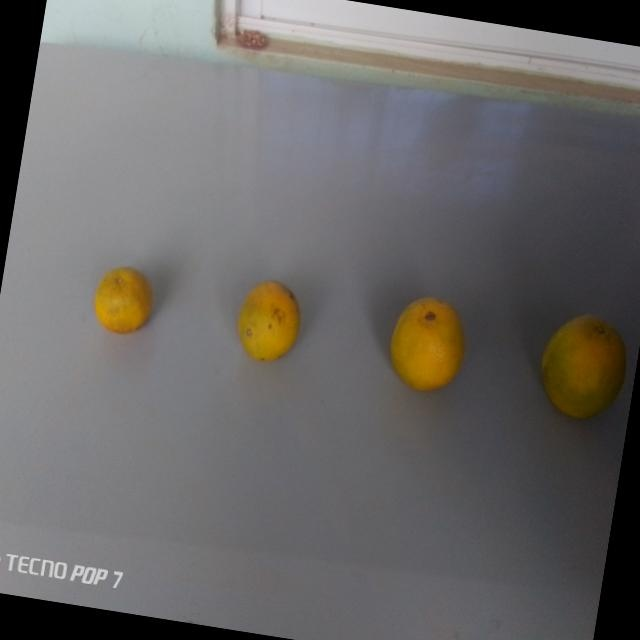agrume: (531, 301, 637, 431), (376, 281, 476, 404), (222, 273, 306, 373), (80, 258, 160, 350)
